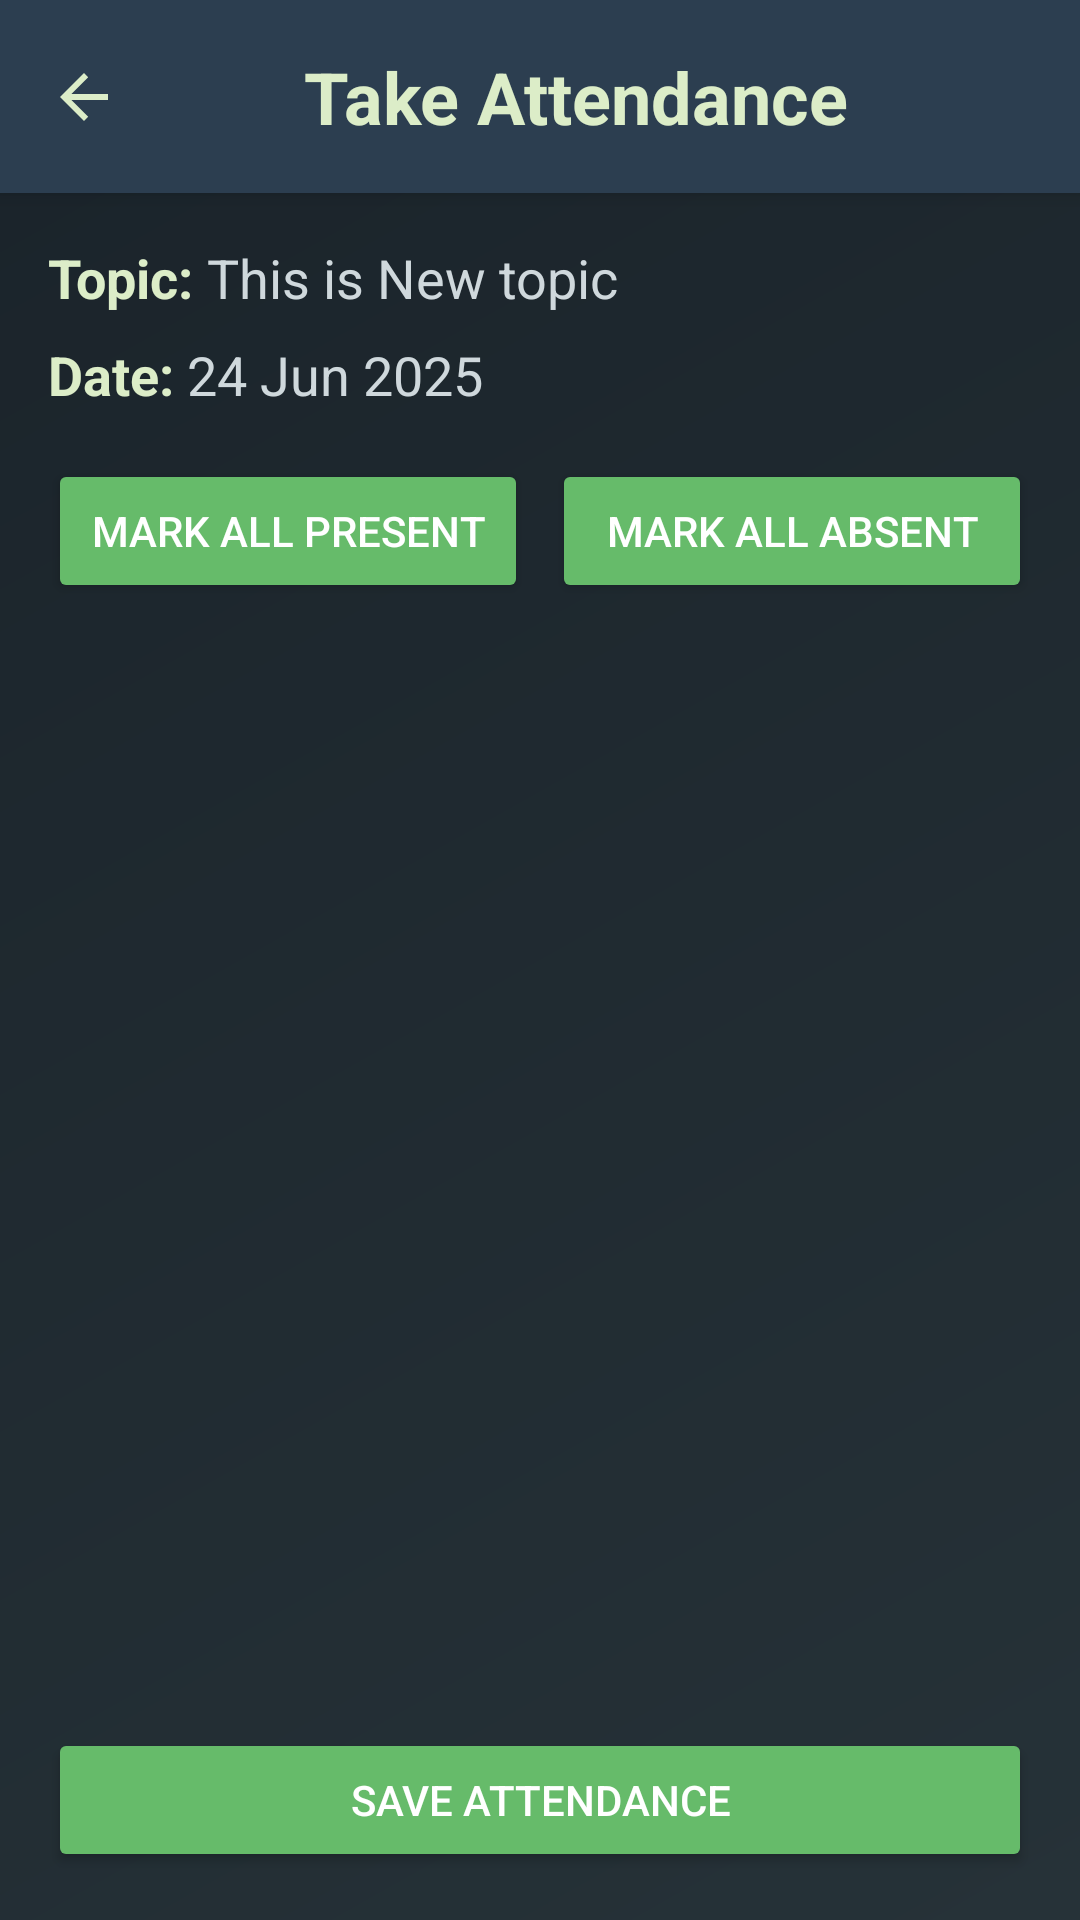

Where icons sit on this 1080 x 1920 app screen, as (x1, y1, x2, y2):
Back: (60, 73, 108, 121)
